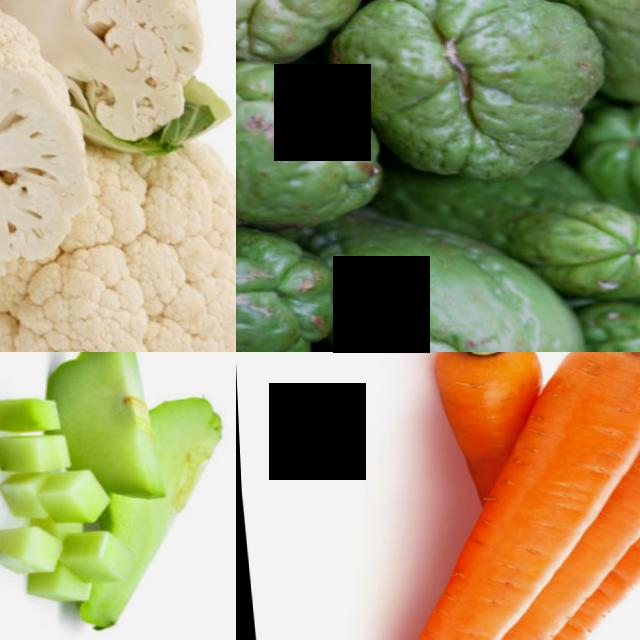carrot: (333, 427, 526, 640), (525, 352, 640, 454), (380, 352, 545, 415)
cauliflower: (0, 180, 236, 352), (0, 0, 235, 161)
chayote: (297, 196, 596, 352), (324, 0, 575, 171)
